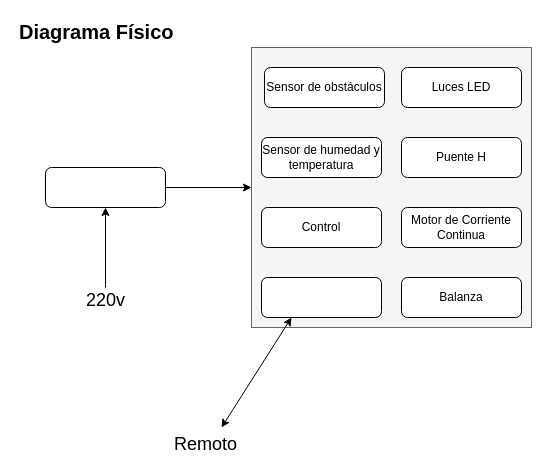
This 549x473 diagram has some shape labels left out. Each missing label, with the box of its shape:
Fuente: (44, 166, 166, 208)
Módulo Bluetooth: (260, 276, 382, 318)
